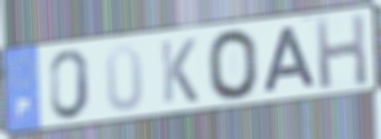0: (47, 48, 91, 122), (103, 42, 146, 114)
A: (259, 24, 319, 95)
H: (312, 10, 372, 92)
K: (158, 36, 201, 105)
O: (205, 27, 262, 103)
